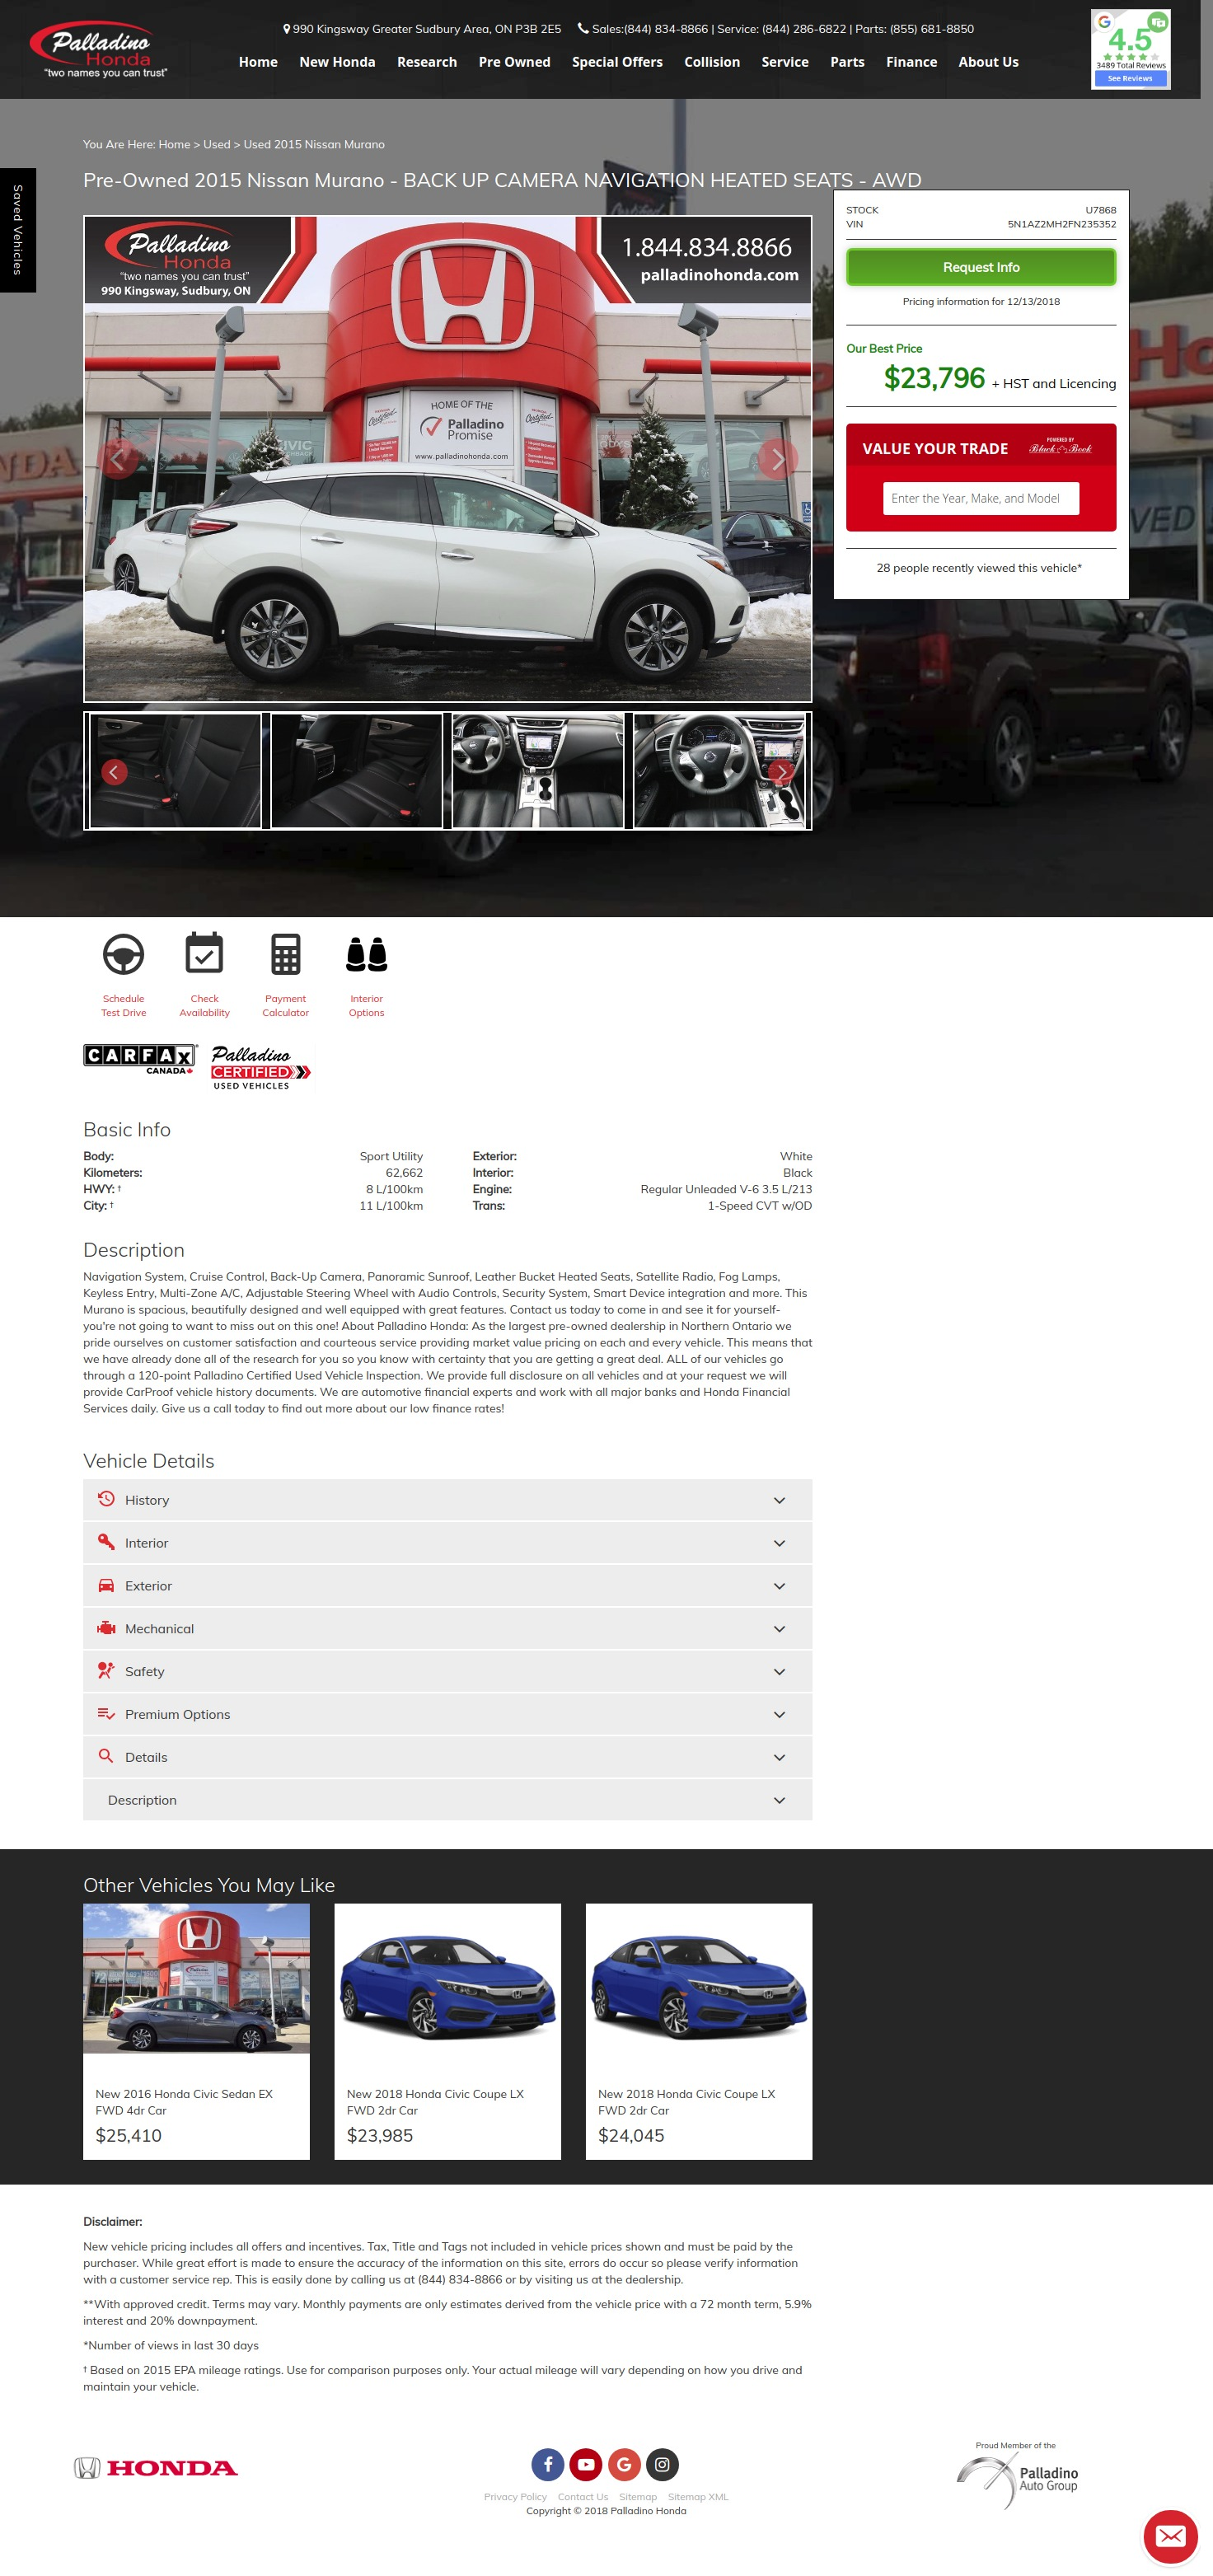car: (779, 766, 787, 780)
